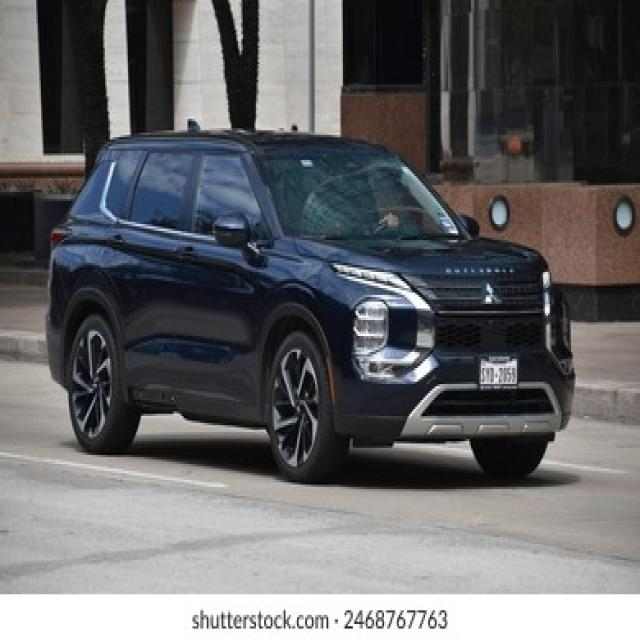mitsubishi: (478, 277, 505, 309)
